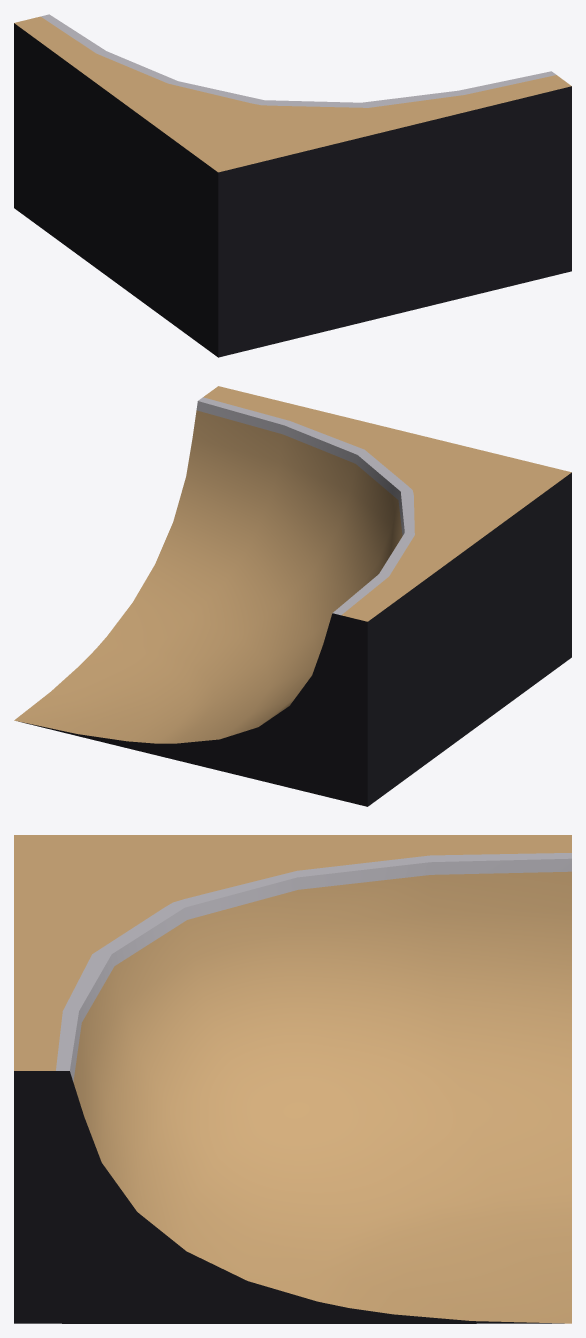
Rendered from Quater_LRG_Bowl.fbx.
The picture shows the model from 3 angles, top to bottom: view 1: azimuth 30°, elevation 25°; view 2: azimuth 150°, elevation 25°; view 3: azimuth 270°, elevation 25°; orthographic projection. The views are drawn at different scales.
Visible parts, largest first — view 1: Quater_LRG_Bowl; view 2: Quater_LRG_Bowl; view 3: Quater_LRG_Bowl.
Part boxes in pixels (x1,y1,x2,y2): Quater_LRG_Bowl: (14,14,571,357); Quater_LRG_Bowl: (14,386,571,806); Quater_LRG_Bowl: (14,835,571,1323).
Bounding box in the file's own units: 20 × 10 × 20.
